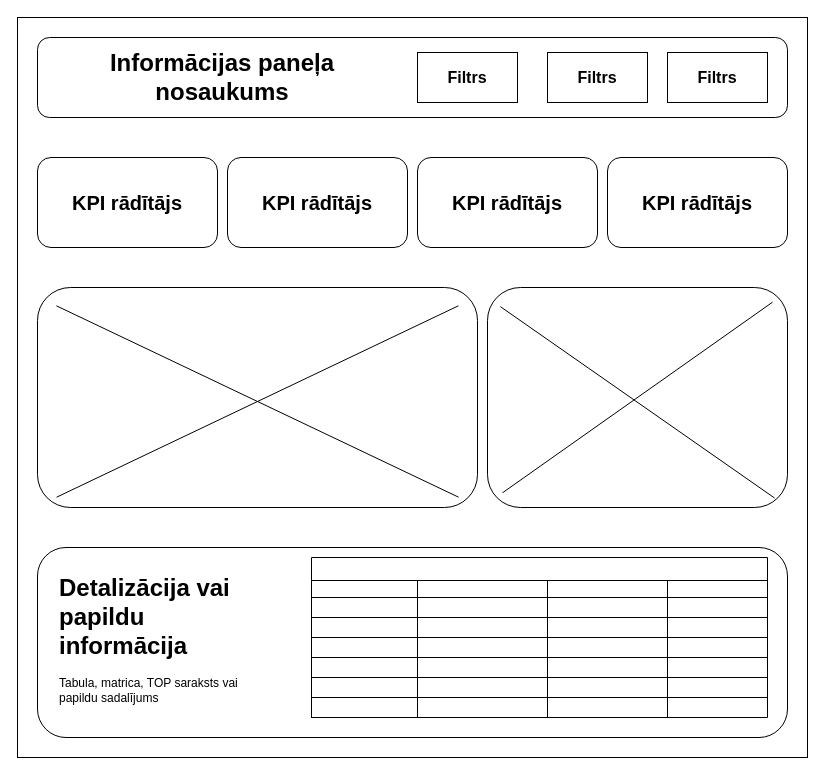
This 825x775 diagram has some shape labels left out. Here are the shapes that lost their labels. From the top down, the box of each, then its label:
(36, 286, 478, 508): Galvenais vizuālais elements
(486, 286, 788, 508): Papildu vizuālais elements
(310, 556, 768, 718): Nosaukums
